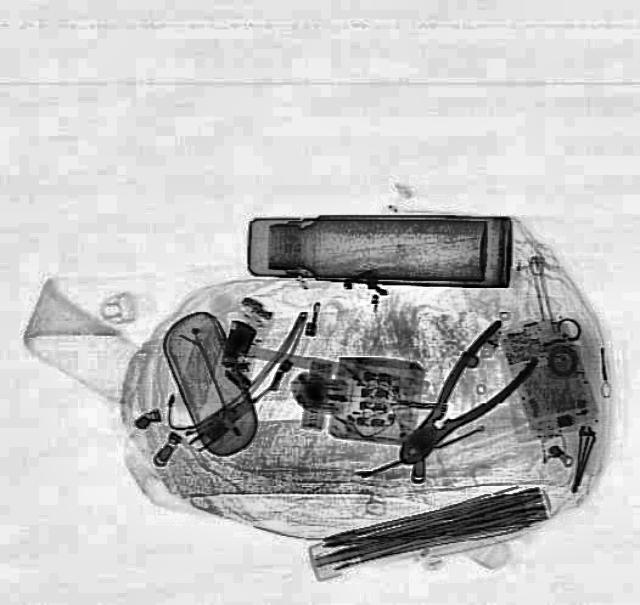Pliers: (371, 316, 547, 484)
